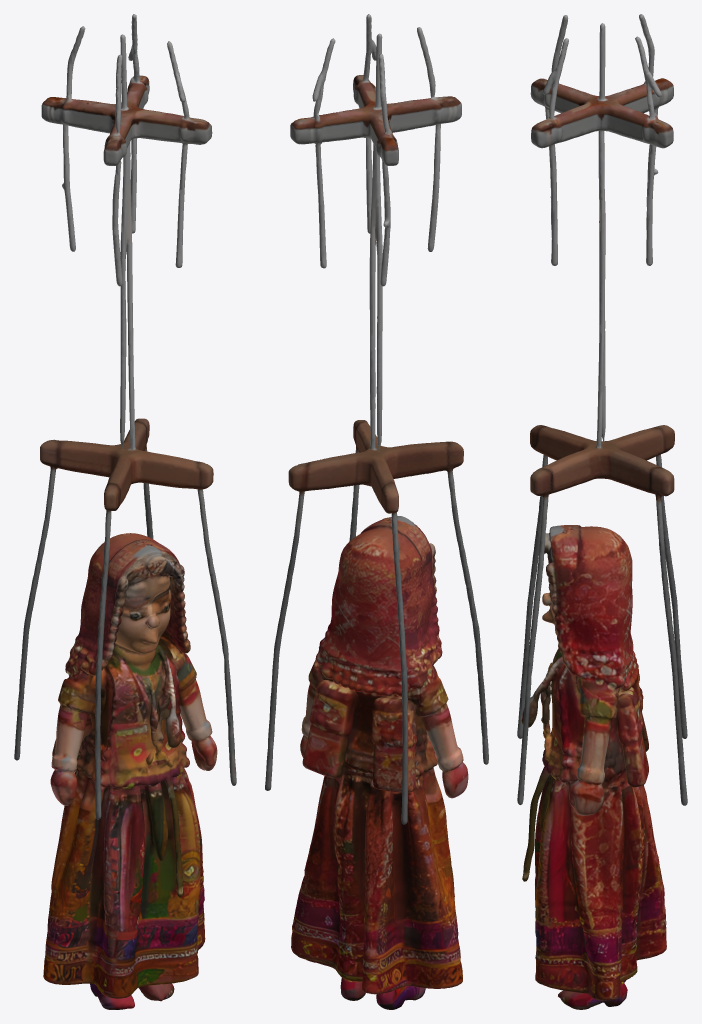
The model's file is kathputli-rajasthan.glb.
The picture shows the model from 3 angles, left to right: view 1: azimuth 30°, elevation 25°; view 2: azimuth 150°, elevation 25°; view 3: azimuth 270°, elevation 25°; orthographic projection.
Visible parts, largest first — view 1: tripo_node_bb362aad-10ae-4823-98b3-77afa36d4b1c; view 2: tripo_node_bb362aad-10ae-4823-98b3-77afa36d4b1c; view 3: tripo_node_bb362aad-10ae-4823-98b3-77afa36d4b1c.
Boxes of the visible parts, left/top/right/bottom form: tripo_node_bb362aad-10ae-4823-98b3-77afa36d4b1c: left=14, top=14, right=236, bottom=1009; tripo_node_bb362aad-10ae-4823-98b3-77afa36d4b1c: left=265, top=14, right=488, bottom=1009; tripo_node_bb362aad-10ae-4823-98b3-77afa36d4b1c: left=517, top=14, right=687, bottom=1009.
Bounding box in the file's own units: 0.178 × 1 × 0.159.
1 material, 1 textured.
